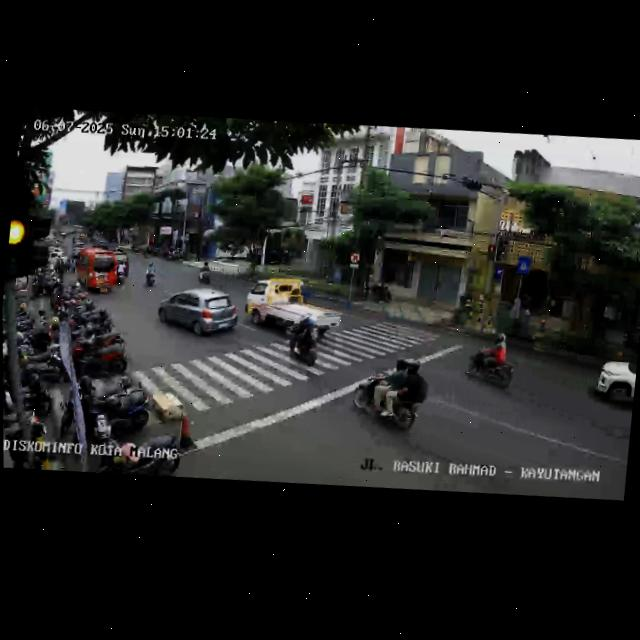car: (244, 270, 345, 338), (153, 280, 242, 346), (587, 352, 636, 414), (70, 244, 121, 298)
motorcycle: (359, 351, 432, 436), (462, 332, 517, 395), (282, 308, 327, 373), (140, 259, 158, 289), (114, 257, 129, 286), (197, 261, 213, 287)
